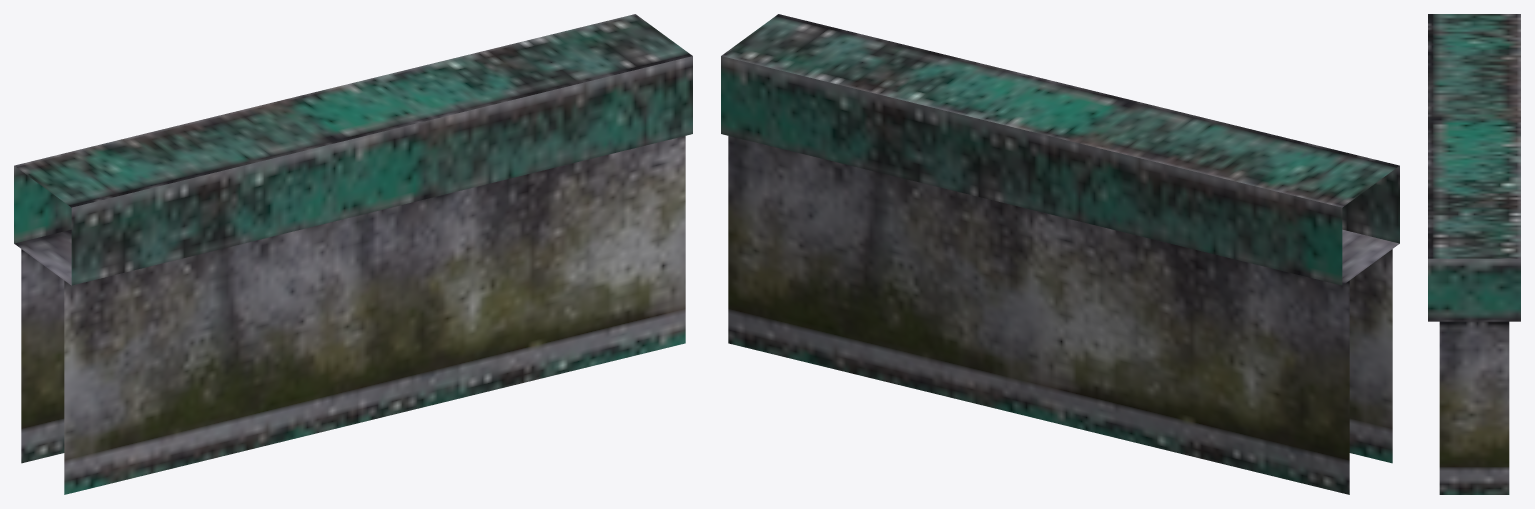
File: Wall01.obj
3 views of the same model, side by side, from view 1: azimuth 30°, elevation 25°; view 2: azimuth 150°, elevation 25°; view 3: azimuth 270°, elevation 25° (orthographic). The views are drawn at different scales.
Visible parts, largest first — view 1: Wall01; view 2: Wall01; view 3: Wall01.
Boxes of the visible parts, x1,y1,x2,y2 form: Wall01: [14, 14, 692, 494]; Wall01: [721, 14, 1399, 494]; Wall01: [1428, 14, 1520, 494].
Size of the model in its own units: 2.5 by 1.12 by 0.4.
